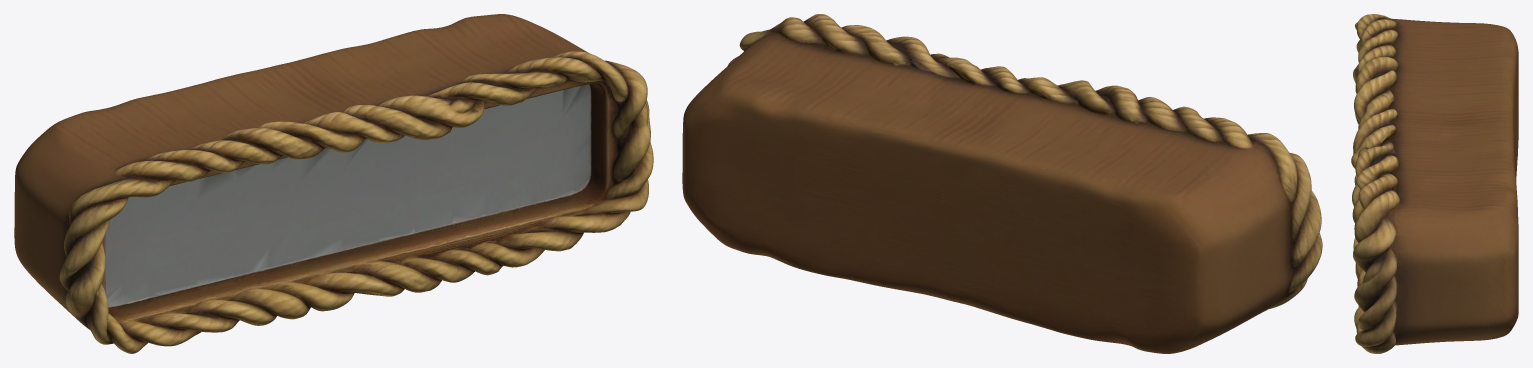
Rendered from roped_button-hd.glb.
The picture shows the model from 3 angles, left to right: view 1: azimuth 30°, elevation 25°; view 2: azimuth 150°, elevation 25°; view 3: azimuth 270°, elevation 25°; orthographic projection. The views are drawn at different scales.
Size of the model in its own units: 1.9 by 0.6128 by 0.5677.
Materials: 1 (1 with a texture image).
